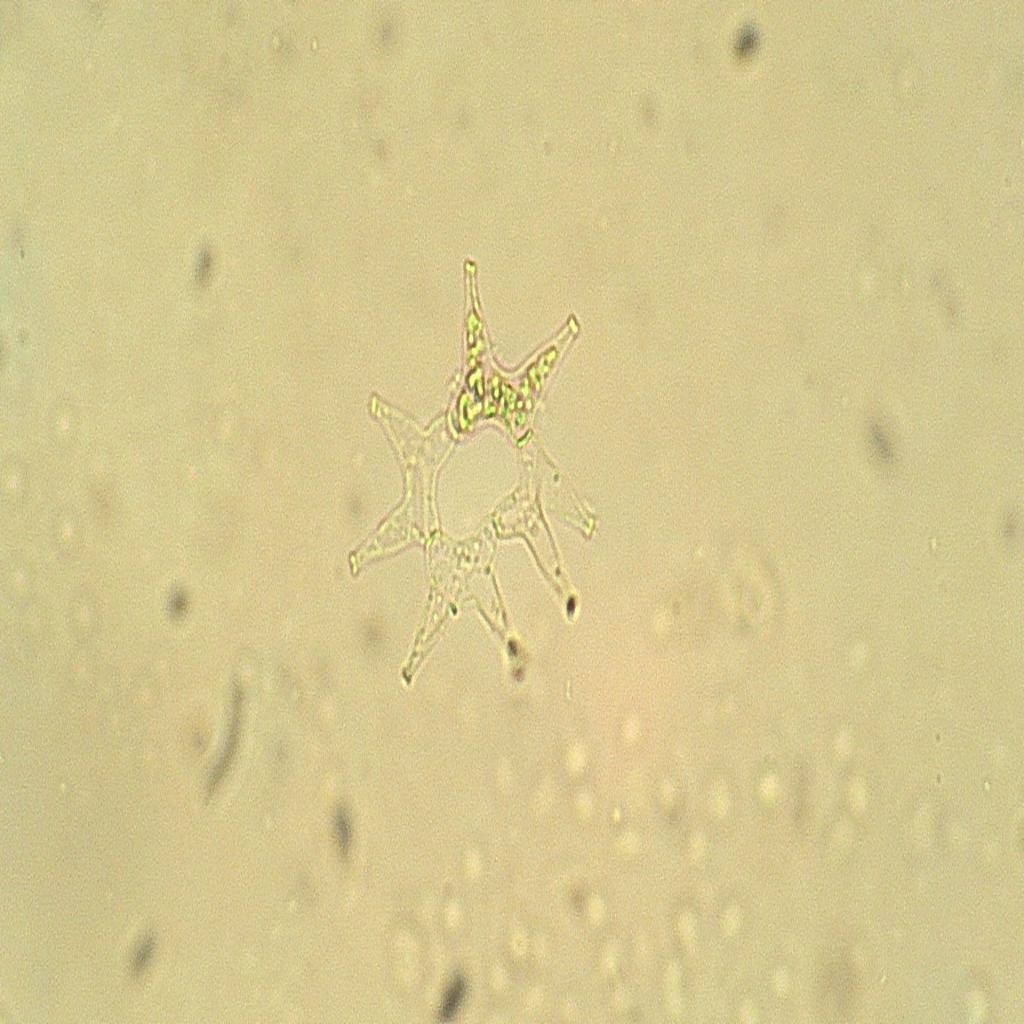Pediastrum_75TH: (335, 247, 619, 752)
